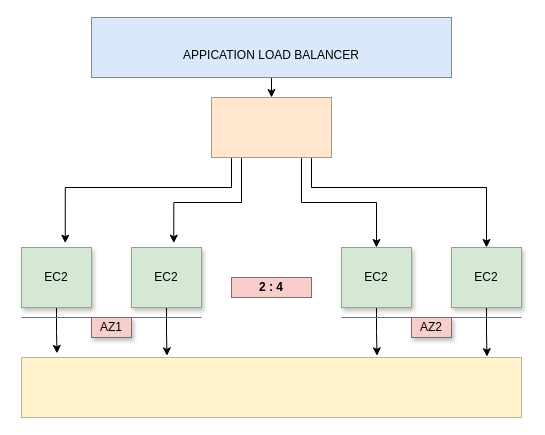
Some shapes in this 545 by 435 pixel diagram are drawn without their labels. Here are the shapes that lost their labels. From the top down, the centre of each, then its label:
point 271,127: TARGET GROUP
point 271,387: AUTOSCALING GROUP
